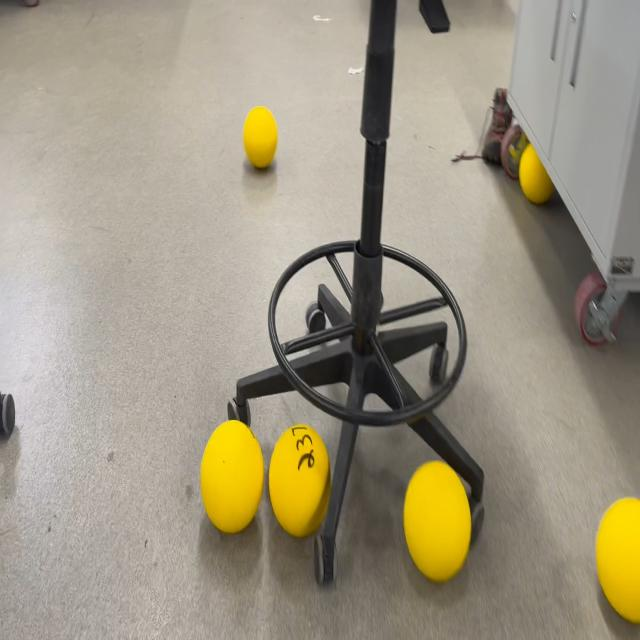Fuel: (404, 460, 472, 582), (268, 423, 332, 538), (200, 420, 264, 534), (595, 497, 640, 625), (519, 142, 557, 203), (243, 105, 278, 169)
